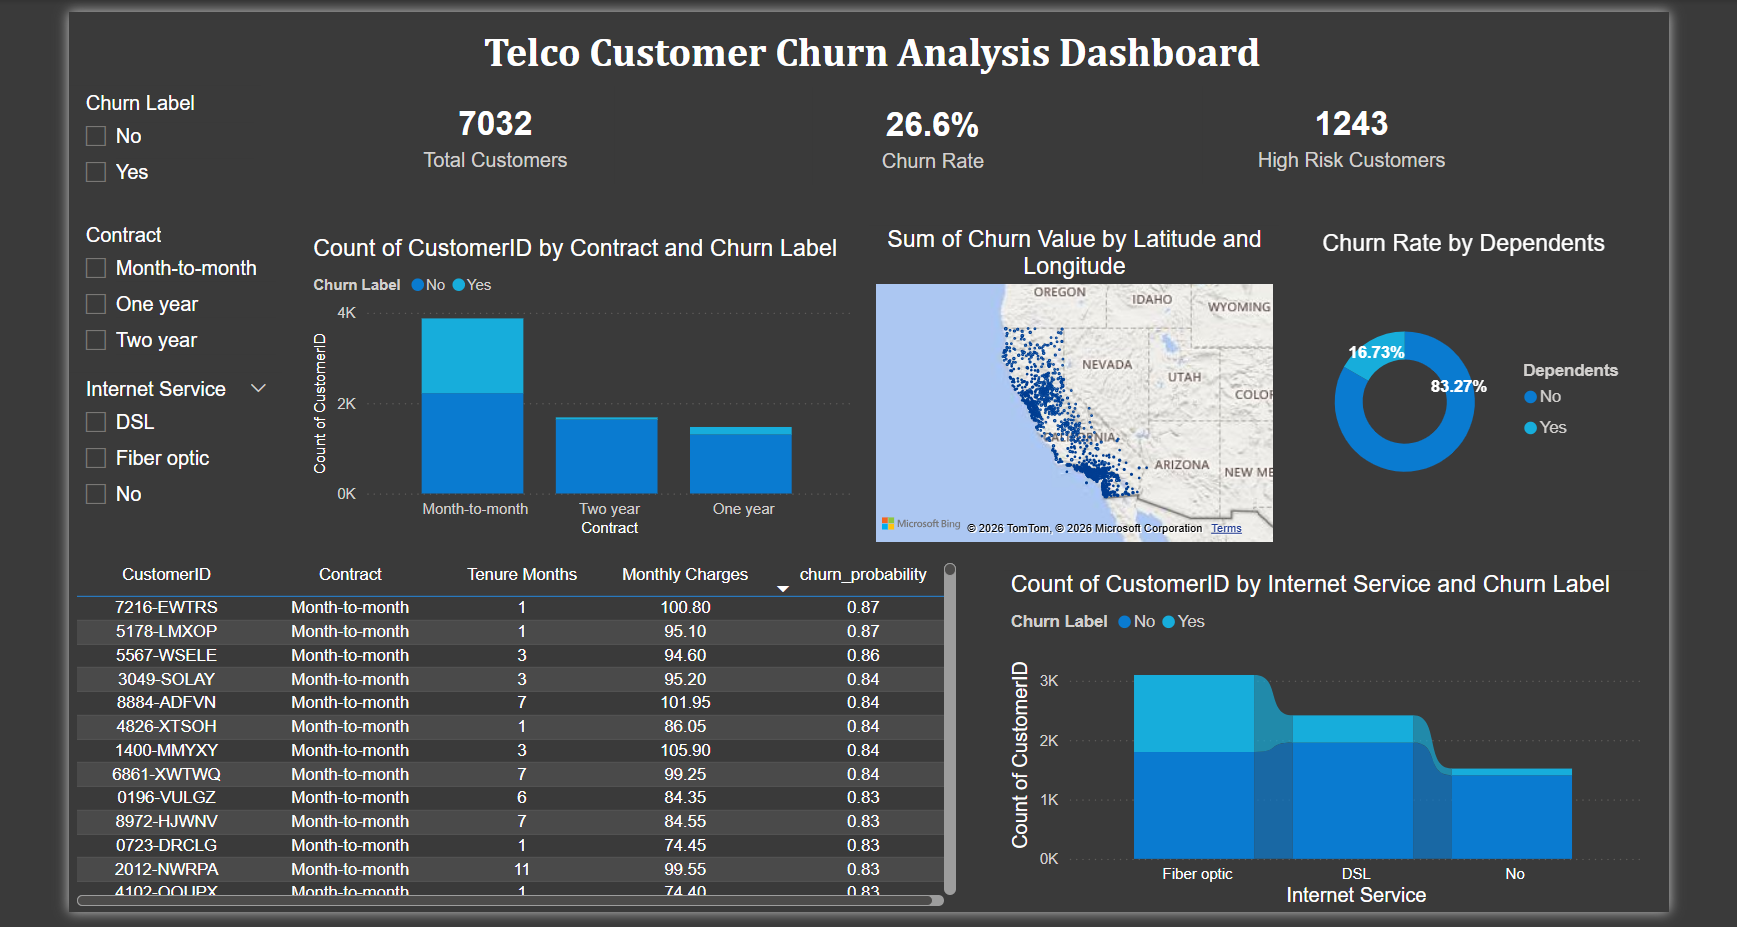

What the dashboard file says about the page in this screenshot:
{"tool":"powerbi","page":{"name":"Page 1","canvas":[1280,720],"ordinal":0},"visuals":[{"type":"card","fields":{"Values":["CountNonNull(telco_churn_with_predictions.CustomerID)"]},"box":[245.1,59.3,191.2,78],"z":0},{"type":"card","fields":{"Values":["telco_churn_with_predictions.Churn Rate"]},"box":[594.5,60.4,191.2,78],"z":1000},{"type":"card","fields":{"Values":["Sum(telco_churn_with_predictions.high_risk_high_value)"]},"box":[906.6,59.3,237.4,78],"z":2000},{"type":"columnChart","fields":{"Category":["telco_churn_with_predictions.Contract"],"Series":["telco_churn_with_predictions.Churn Label"],"Y":["CountNonNull(telco_churn_with_predictions.CustomerID)"]},"box":[190.1,178,439.6,246.2],"z":3000},{"type":"columnChart","fields":{"Category":["telco_churn_with_predictions.Internet Service"],"Series":["telco_churn_with_predictions.Churn Label"],"Y":["CountNonNull(telco_churn_with_predictions.CustomerID)"]},"box":[748.4,447.3,514.3,272.5],"z":4000},{"type":"tableEx","fields":{"Values":["telco_churn_with_predictions.CustomerID","telco_churn_with_predictions.Contract","telco_churn_with_predictions.Tenure Months","telco_churn_with_predictions.Monthly Charges","telco_churn_with_predictions.churn_probability"]},"box":[0,436.3,714.3,283.5],"z":5000},{"type":"textbox","box":[46.2,7.7,1192.3,51.6],"z":6000},{"type":"map","fields":{"Size":["Sum(telco_churn_with_predictions.Churn Value)"],"X":["telco_churn_with_predictions.Longitude"],"Y":["telco_churn_with_predictions.Latitude"]},"box":[639.6,171.4,328.6,257.1],"z":7000},{"type":"donutChart","fields":{"Y":["telco_churn_with_predictions.Churn Rate"],"Category":["telco_churn_with_predictions.Dependents"]},"box":[968.1,173.6,294.5,254.9],"z":8000},{"type":"slicer","fields":{"Values":["telco_churn_with_predictions.Internet Service"]},"box":[0,287.9,170.3,127.5],"z":9000},{"type":"slicer","fields":{"Values":["telco_churn_with_predictions.Contract"]},"box":[0,164.8,170.3,123.1],"z":10000},{"type":"slicer","fields":{"Values":["telco_churn_with_predictions.Churn Label"]},"box":[0,59.3,152.7,100],"z":11000}]}

Visuals, with their boxes on the page's 1280x720 design canvas (x1, y1, x2, y2). These are canvas units, not pixel positions in the 1737x927 screenshot, which may show the page scaled, cropped or inside an application window:
card - CountNonNull(telco_churn_with_predictions.CustomerID): box=[245, 59, 436, 137]
card - telco_churn_with_predictions.Churn Rate: box=[594, 60, 786, 138]
card - Sum(telco_churn_with_predictions.high_risk_high_value): box=[907, 59, 1144, 137]
columnChart - telco_churn_with_predictions.Contract x telco_churn_with_predictions.Churn Label: box=[190, 178, 630, 424]
columnChart - telco_churn_with_predictions.Internet Service x telco_churn_with_predictions.Churn Label: box=[748, 447, 1263, 720]
tableEx - telco_churn_with_predictions.CustomerID x telco_churn_with_predictions.Contract: box=[0, 436, 714, 720]
textbox: box=[46, 8, 1238, 59]
map - Sum(telco_churn_with_predictions.Churn Value) x telco_churn_with_predictions.Longitude: box=[640, 171, 968, 428]
donutChart - telco_churn_with_predictions.Churn Rate x telco_churn_with_predictions.Dependents: box=[968, 174, 1263, 428]
slicer - telco_churn_with_predictions.Internet Service: box=[0, 288, 170, 415]
slicer - telco_churn_with_predictions.Contract: box=[0, 165, 170, 288]
slicer - telco_churn_with_predictions.Churn Label: box=[0, 59, 153, 159]
